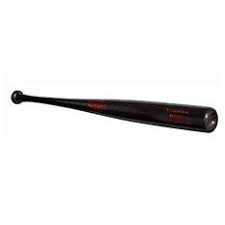bat: (10, 89, 219, 134)
